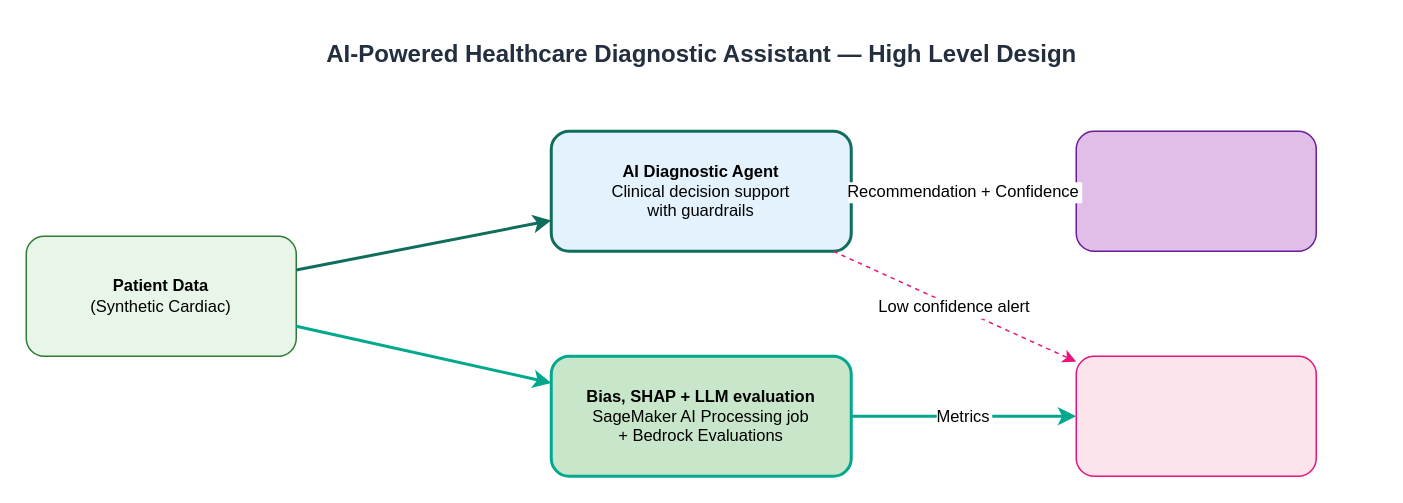
The diagram is 1403 pixels wide and 503 high, and some of its shapes have lost their labels. Here are the shapes that lost their labels. From the top down, the box of each, then its label:
(1075, 130, 1316, 251): Physician Reviews AI output Accept / Override
(1075, 355, 1316, 476): Monitoring Observability + Alerts on drift
